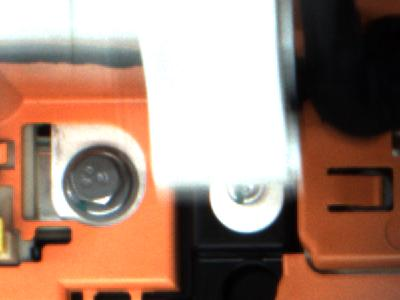nut_b: (63, 146, 142, 224)
